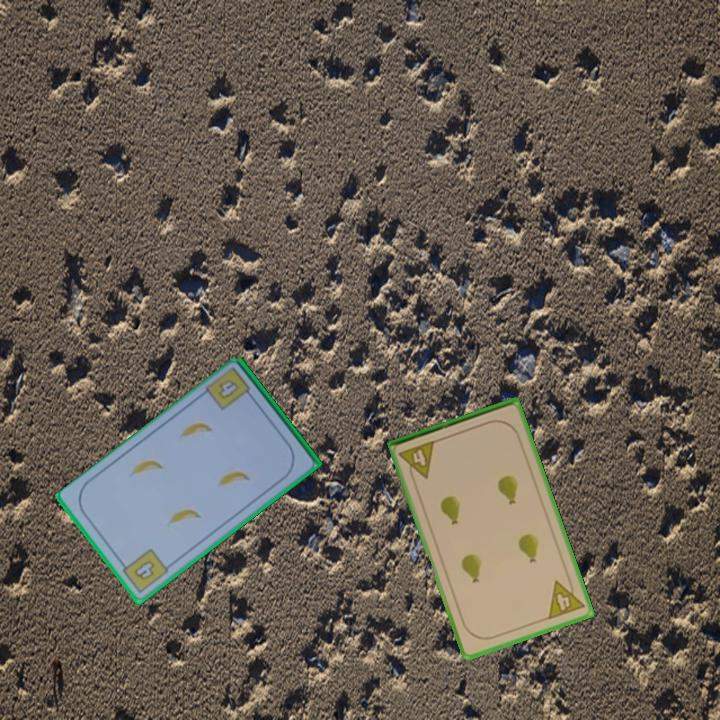4b: (116, 545, 172, 596), (214, 376, 242, 402)
4p: (544, 573, 587, 622), (395, 437, 438, 485)
